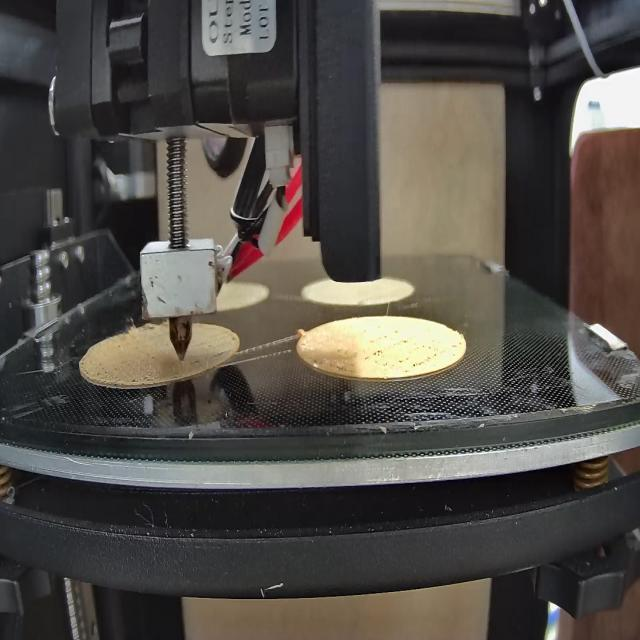under_extrusion: (365, 326, 459, 377), (87, 350, 147, 386), (316, 345, 354, 374), (193, 348, 229, 371)
